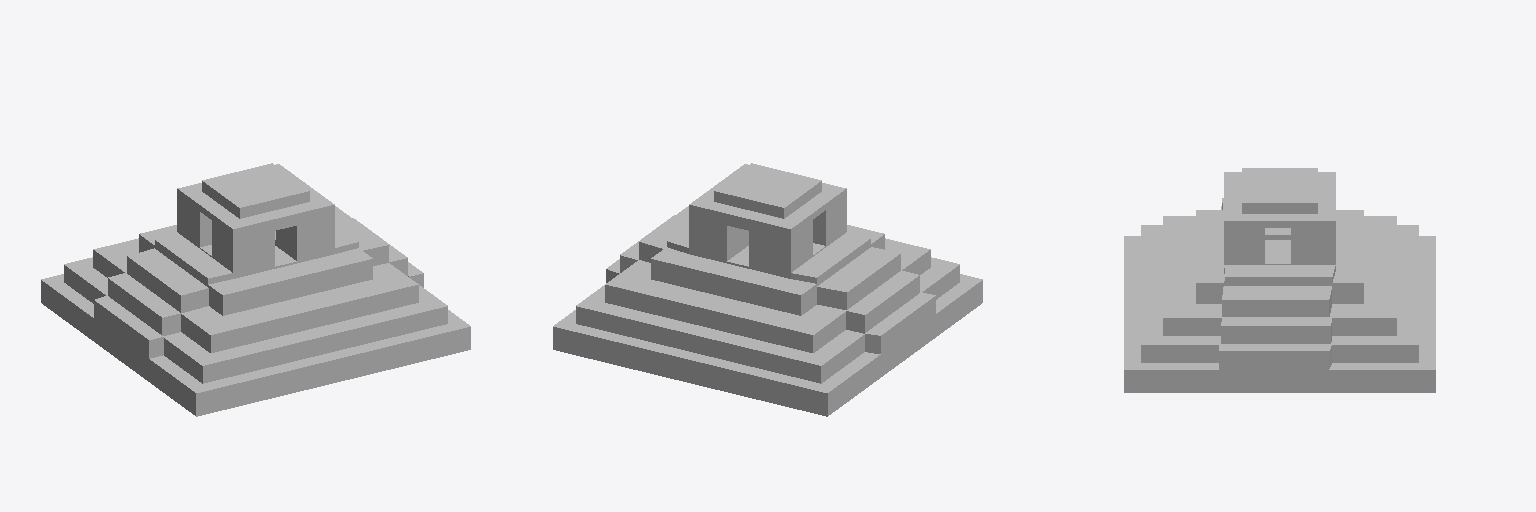
Rendered from itza2_Multi.obj.
3 renders of one model, left to right at view 1: azimuth 30°, elevation 25°; view 2: azimuth 150°, elevation 25°; view 3: azimuth 270°, elevation 25°, orthographic.
Parts seen in each view (by area): view 1: Box001; view 2: Box001; view 3: Box001.
Boxes of the visible parts, box(x1,y1,x2,y2) form: Box001: box(41, 163, 470, 416); Box001: box(553, 163, 982, 416); Box001: box(1124, 168, 1435, 392).
Size of the model in its own units: 143 by 69.95 by 140.